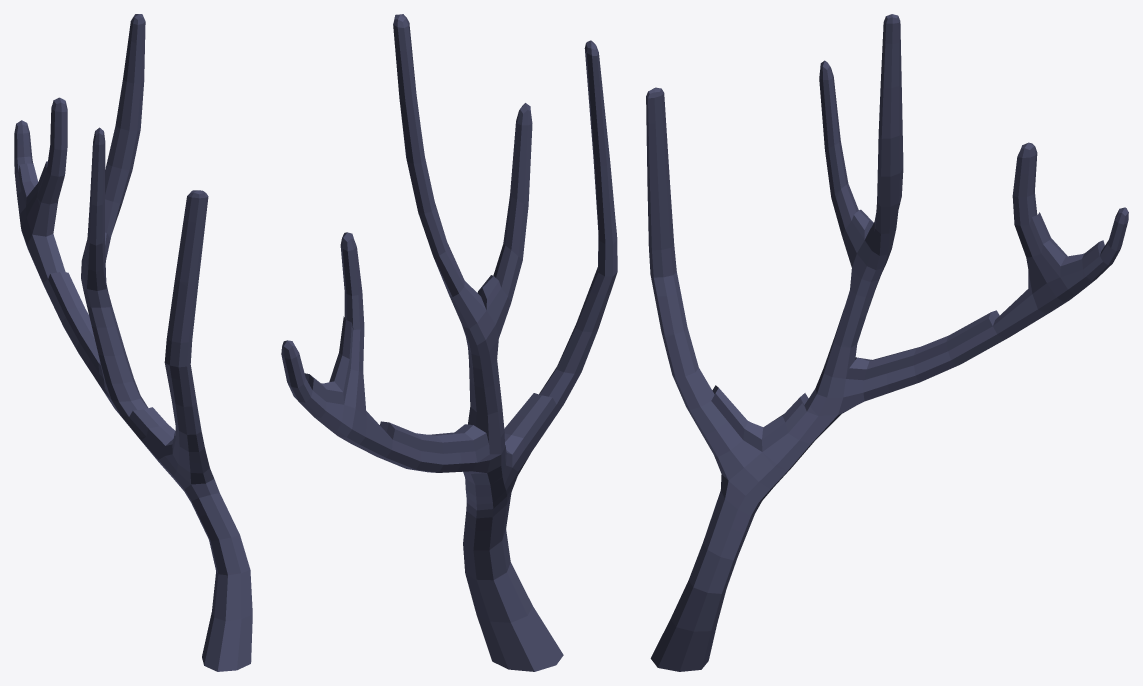
Rendered from Dead_tree_2.fbx.
3 renders of one model, left to right at view 1: azimuth 30°, elevation 25°; view 2: azimuth 150°, elevation 25°; view 3: azimuth 270°, elevation 25°, orthographic. The views are drawn at different scales.
Visible parts, largest first — view 1: Dead_tree_2; view 2: Dead_tree_2; view 3: Dead_tree_2.
Part boxes in pixels (x1,y1,x2,y2): Dead_tree_2: (14,14,252,671); Dead_tree_2: (281,14,617,671); Dead_tree_2: (646,14,1128,671).
Size of the model in its own units: 3.3 by 17.79 by 11.99.
